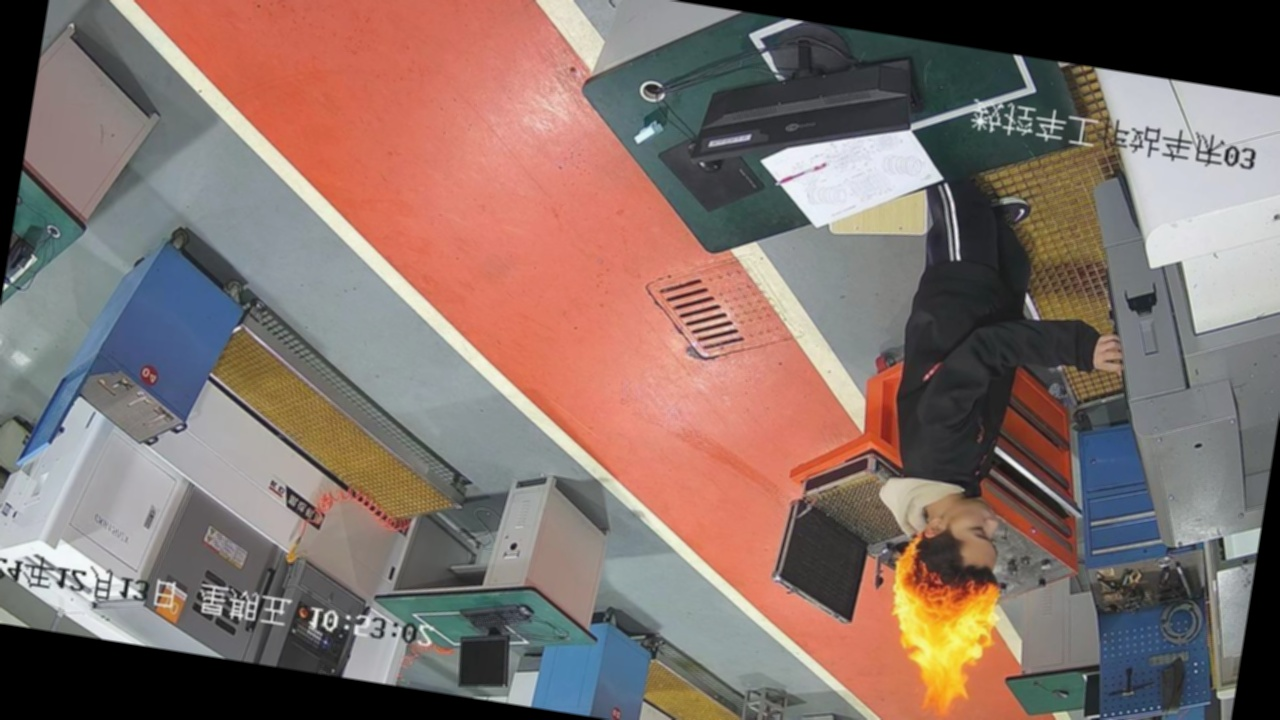fire: (854, 516, 1037, 720)
